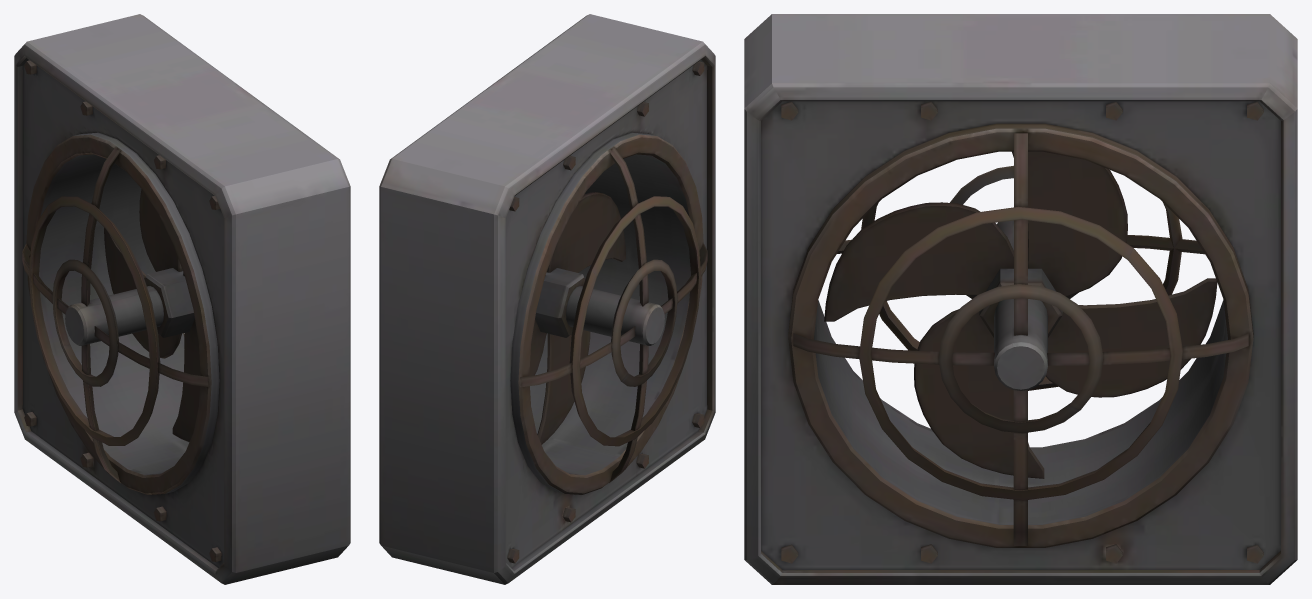
3 views of the same model, side by side, from view 1: azimuth 30°, elevation 25°; view 2: azimuth 150°, elevation 25°; view 3: azimuth 270°, elevation 25° (orthographic). The views are drawn at different scales.
Visible parts, largest first — view 1: body0_model0_lod0_mesh0; view 2: body0_model0_lod0_mesh0; view 3: body0_model0_lod0_mesh0.
Boxes of the visible parts, x1,y1,x2,y2 form: body0_model0_lod0_mesh0: (14, 14, 350, 584); body0_model0_lod0_mesh0: (379, 14, 715, 584); body0_model0_lod0_mesh0: (744, 14, 1297, 584).
Bounding box in the file's own units: 55.28 × 96 × 96.
Materials: 1 (1 with a texture image).
